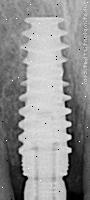Nobel Biocare: (16, 15, 73, 200)
